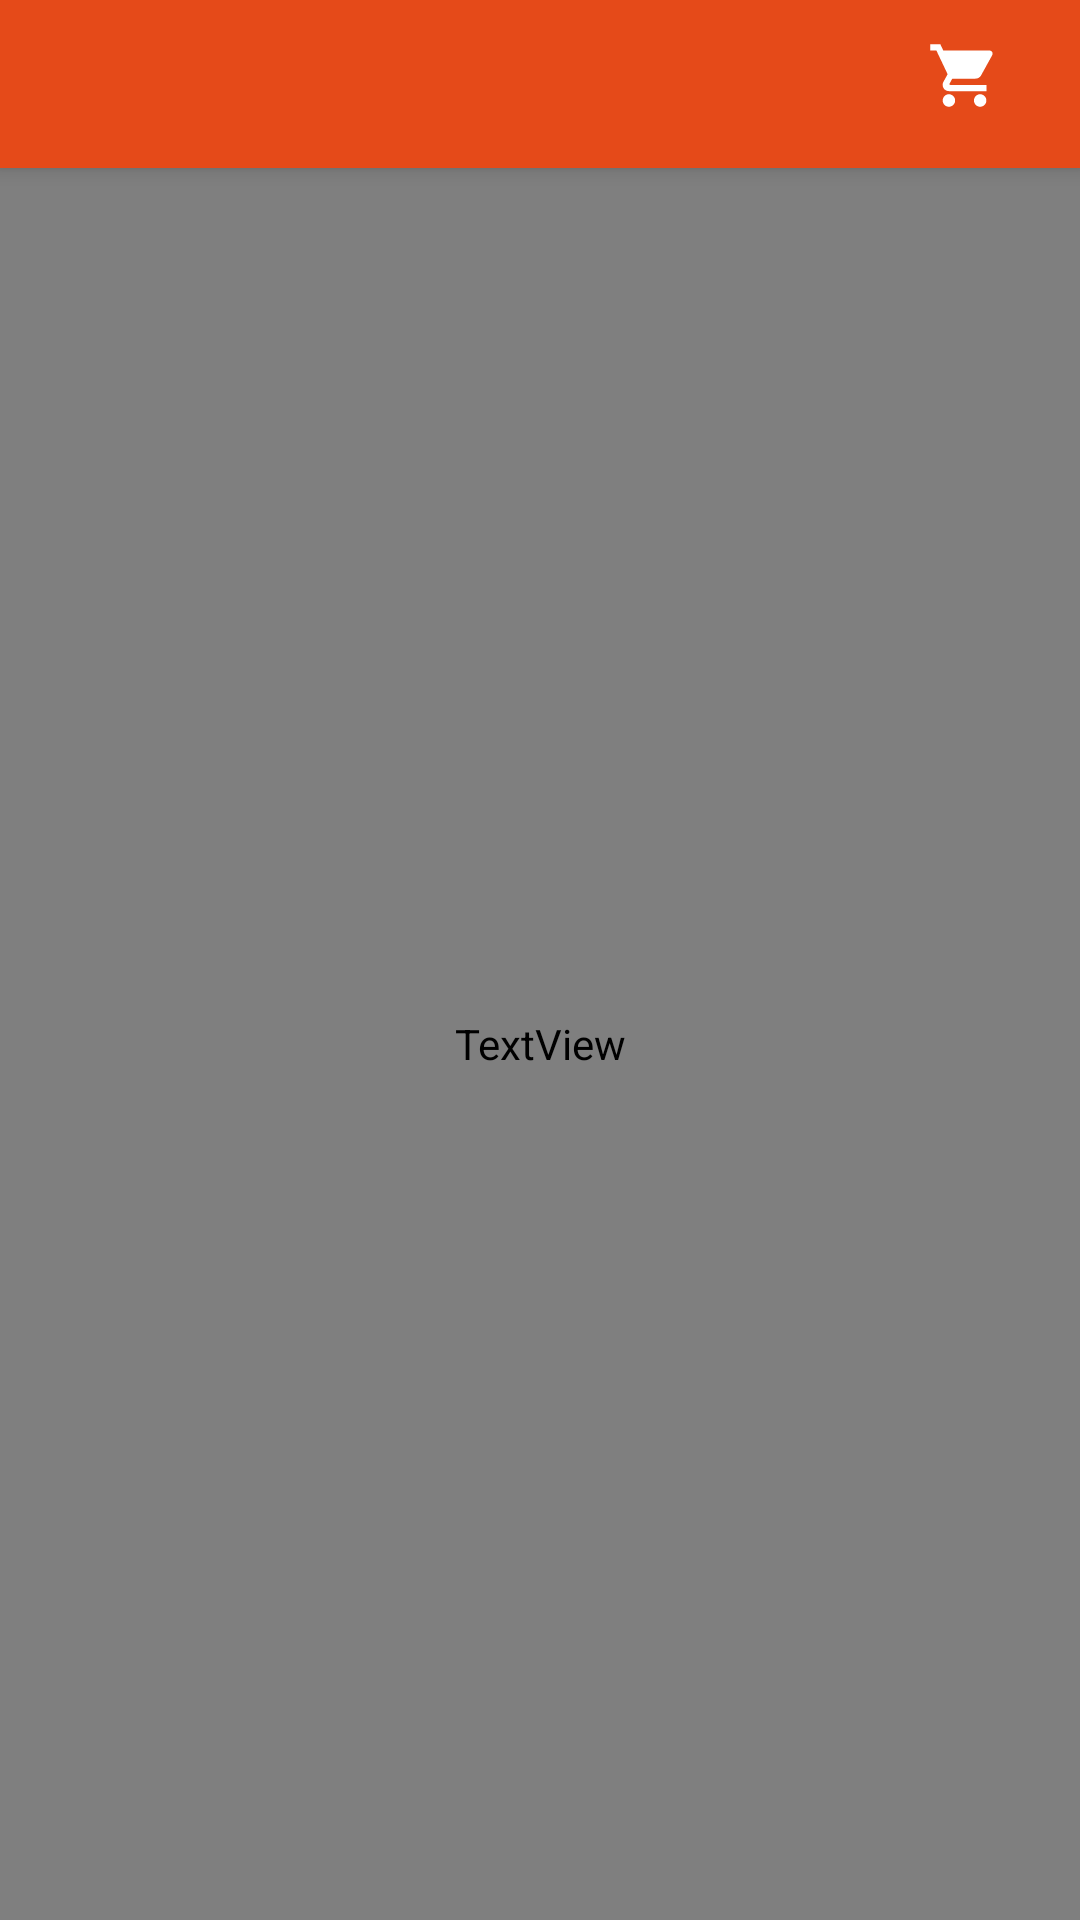

Where icons sit on this 1080*1920 app screen, as Rect(x1, y1, x2, y2):
shopping cart: Rect(930, 44, 993, 107)
